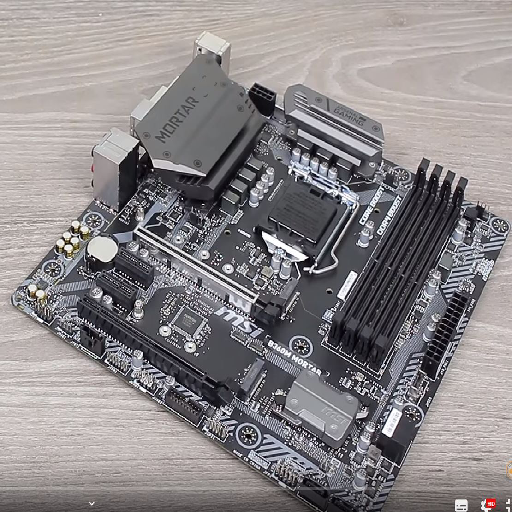CPU: (250, 173, 355, 269)
GPU: (75, 294, 238, 407), (133, 223, 289, 328)
MOTHERBOARD: (9, 50, 510, 506)
RAM: (330, 160, 472, 374)
SSD: (238, 356, 267, 397), (278, 279, 298, 307)
